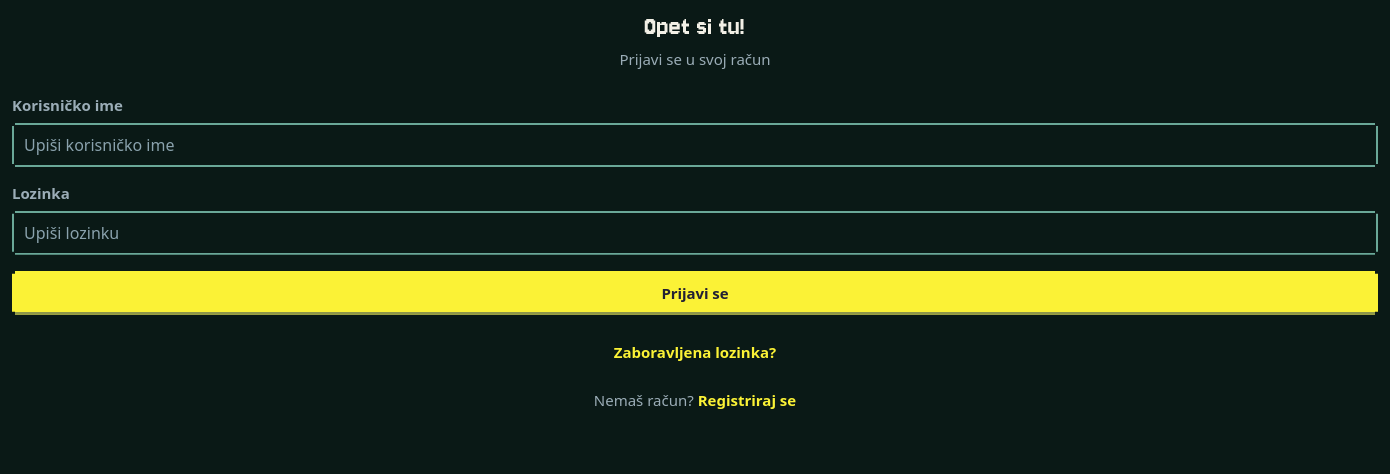
Test: LoginForm › sign-in in Croatian
Expected: the heading "Opet si tu!" is shown, [645,11,745,42]
Click the button "Prijavi se" at (695, 293), box [12,271,1378,315]
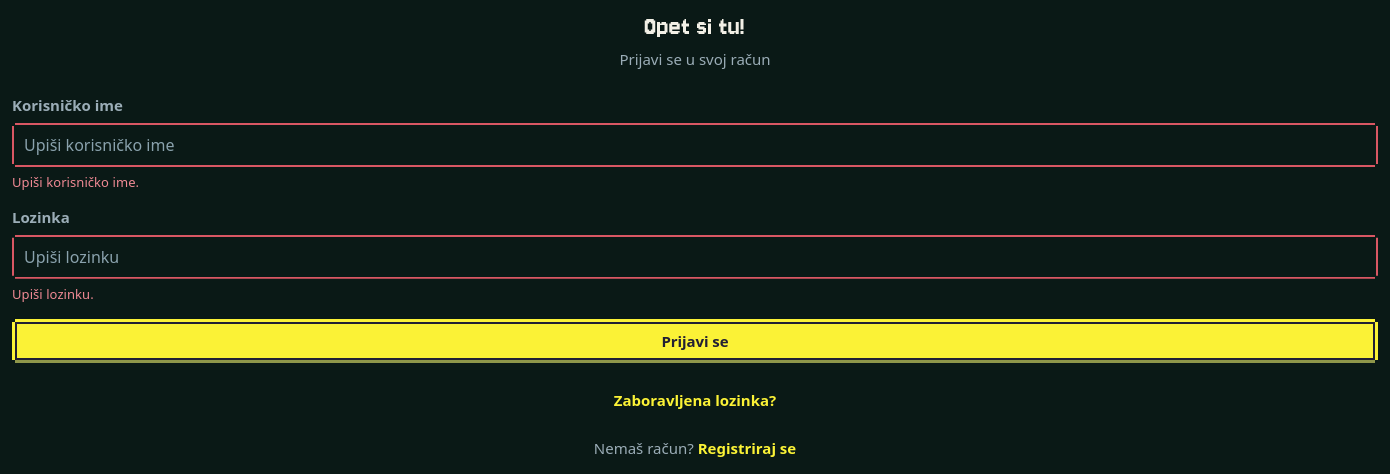
Expected: the text "Upiši korisničko ime." is shown, [12,173,139,191]
Expected: the text "Upiši lozinku." is shown, [12,285,94,303]
